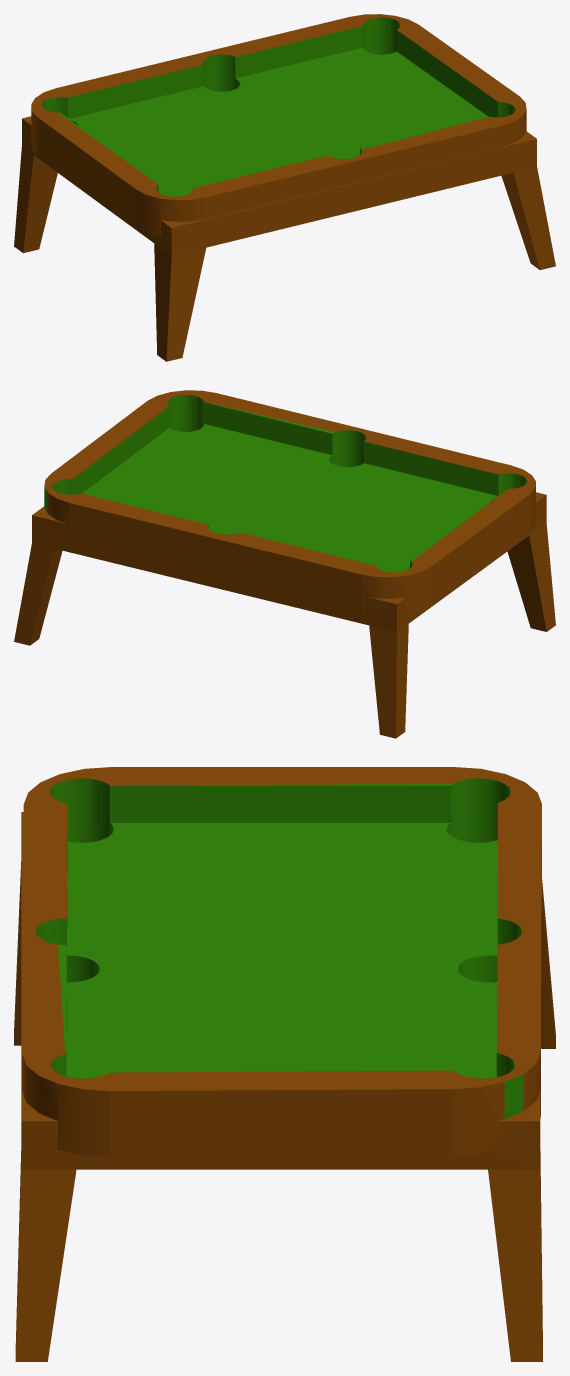
The model's file is table_with_colors.obj.
3 renders of one model, top to bottom at view 1: azimuth 30°, elevation 25°; view 2: azimuth 150°, elevation 25°; view 3: azimuth 270°, elevation 25°, orthographic. The views are drawn at different scales.
Visible parts, largest first — view 1: pasted__pasted__pCube18; view 2: pasted__pasted__pCube18; view 3: pasted__pasted__pCube18.
Boxes of the visible parts, left/top/right/bottom form: pasted__pasted__pCube18: left=14, top=14, right=555, bottom=361; pasted__pasted__pCube18: left=14, top=390, right=555, bottom=738; pasted__pasted__pCube18: left=14, top=767, right=555, bottom=1361.
Bounding box in the file's own units: 24.44 × 9.06 × 16.89.
